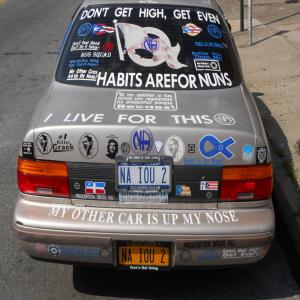Vehicle-registration-plate: (122, 154, 170, 206), (117, 240, 172, 272)
